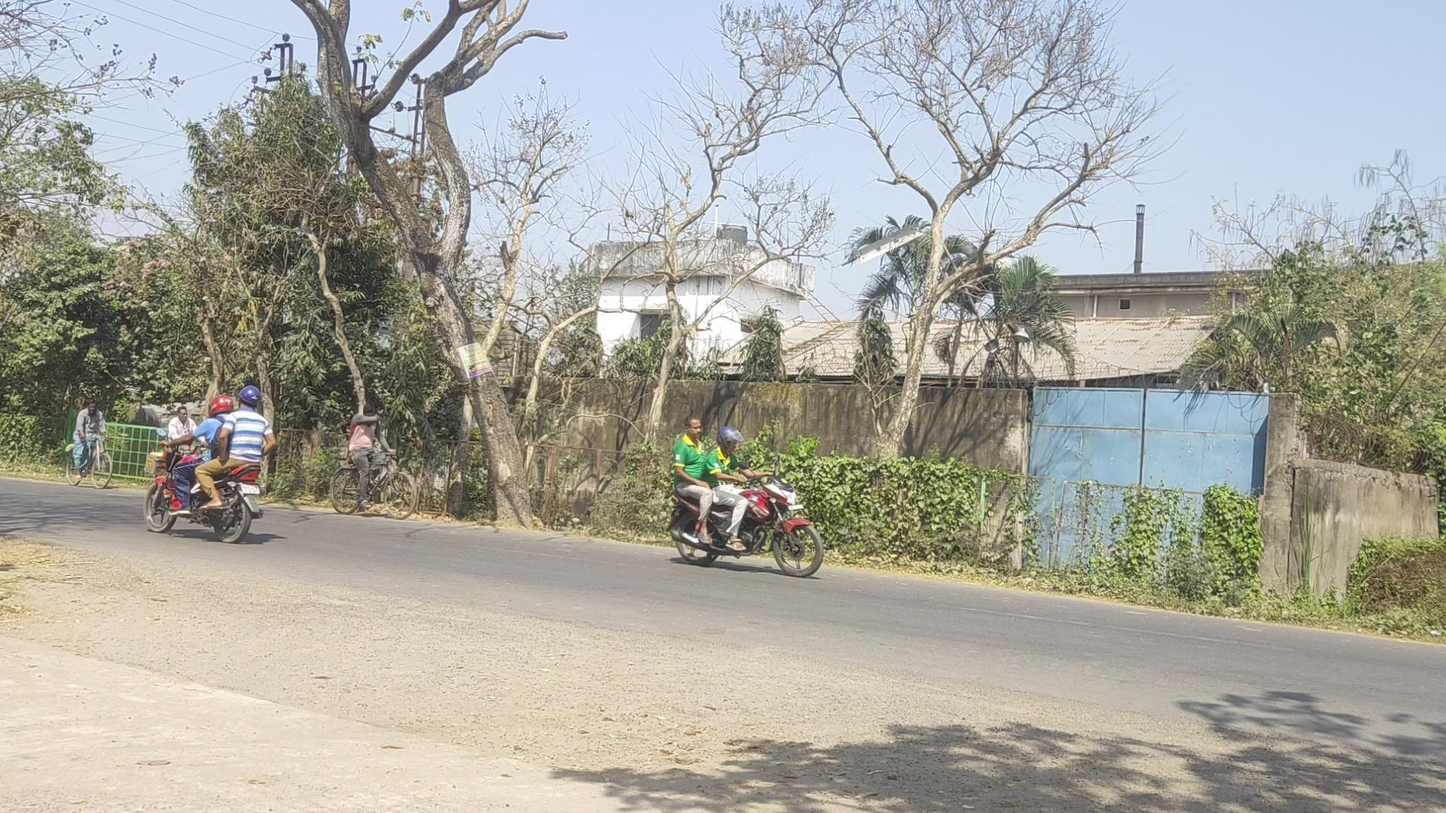bike: (666, 415, 824, 577), (143, 385, 276, 544), (330, 403, 417, 519), (63, 399, 112, 490)
